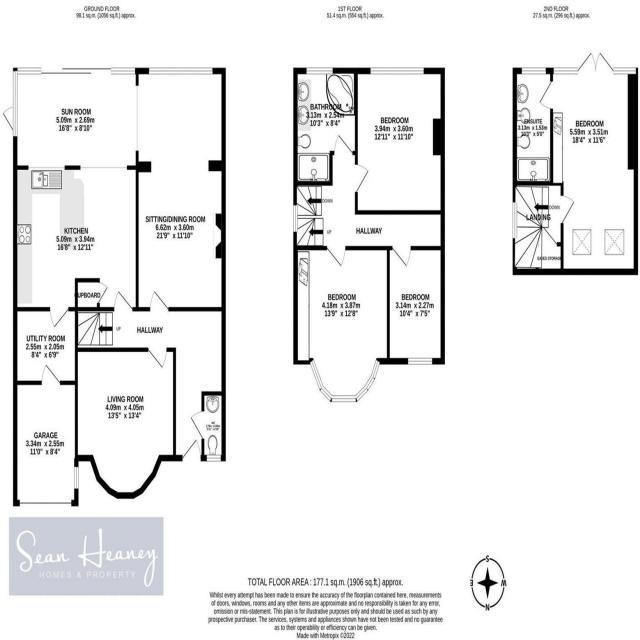DOOR: (333, 133, 354, 155), (182, 438, 202, 461), (147, 347, 167, 370), (326, 246, 346, 268), (49, 307, 69, 329), (41, 363, 61, 385), (113, 290, 133, 312), (560, 195, 575, 224), (355, 163, 369, 194), (539, 80, 553, 110), (190, 410, 204, 440), (149, 290, 169, 311), (392, 245, 411, 267)
DOUBLE DOOR: (577, 48, 615, 75)
ROOM: (13, 67, 226, 312), (538, 51, 638, 275), (13, 165, 139, 329), (74, 347, 176, 500), (293, 245, 390, 403), (354, 67, 445, 215), (386, 246, 445, 365)
WINDOW: (309, 358, 381, 403), (12, 66, 42, 138), (148, 67, 213, 75), (369, 67, 425, 75), (520, 66, 547, 75), (407, 357, 433, 366), (512, 201, 518, 239), (306, 67, 333, 75), (553, 67, 578, 75), (28, 165, 65, 170), (613, 67, 636, 75), (293, 204, 298, 233), (206, 454, 222, 462)
